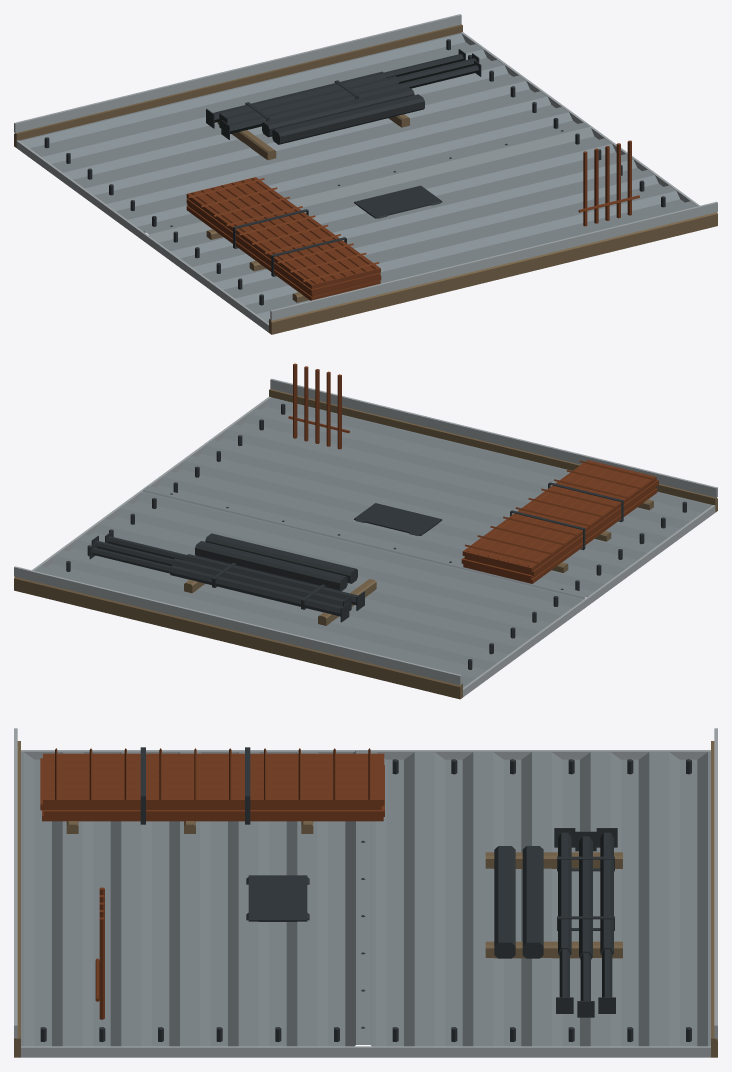
File: metal-deck-floor-plate-6cdd1c.glb
The picture shows the model from 3 angles, top to bottom: view 1: azimuth 30°, elevation 25°; view 2: azimuth 150°, elevation 25°; view 3: azimuth 270°, elevation 25°; orthographic projection. The views are drawn at different scales.
Visible parts, largest first — view 1: deck, mesh-bundle-body, lay-down-body, starters; view 2: deck, mesh-bundle-body, lay-down-body, starters; view 3: deck, mesh-bundle-body, lay-down-body, starters.
Part boxes in pixels (box(x1,y1,x2,y2)): deck: box(14, 14, 717, 334); mesh-bundle-body: box(186, 177, 381, 302); lay-down-body: box(206, 49, 481, 160); starters: box(578, 140, 639, 226); deck: box(14, 378, 717, 699); mesh-bundle-body: box(461, 460, 658, 583); lay-down-body: box(89, 531, 376, 625); starters: box(288, 363, 349, 449); deck: box(14, 728, 717, 1057); mesh-bundle-body: box(40, 747, 384, 833); lay-down-body: box(485, 828, 622, 1017); starters: box(95, 887, 104, 1019).
Bounding box in the file's own units: 4 × 0.64 × 4.
